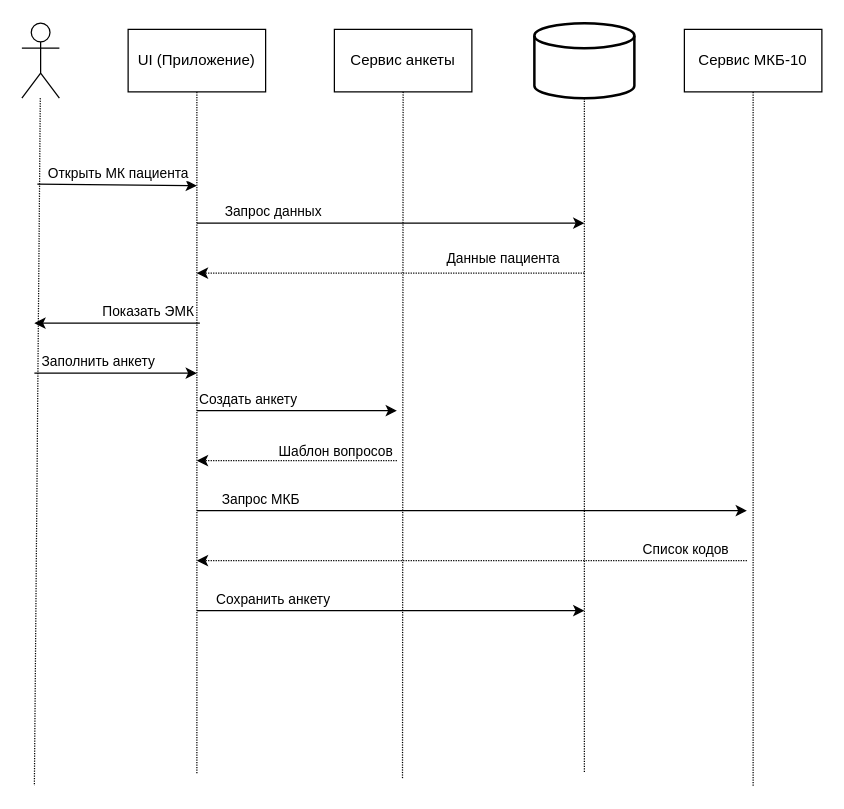
Image size: 844x809. Some labels were removed from this diagram. Each missing label, with the box of its shape:
БД пациентов: (532, 21, 635, 99)
Врач: (21, 22, 59, 98)
